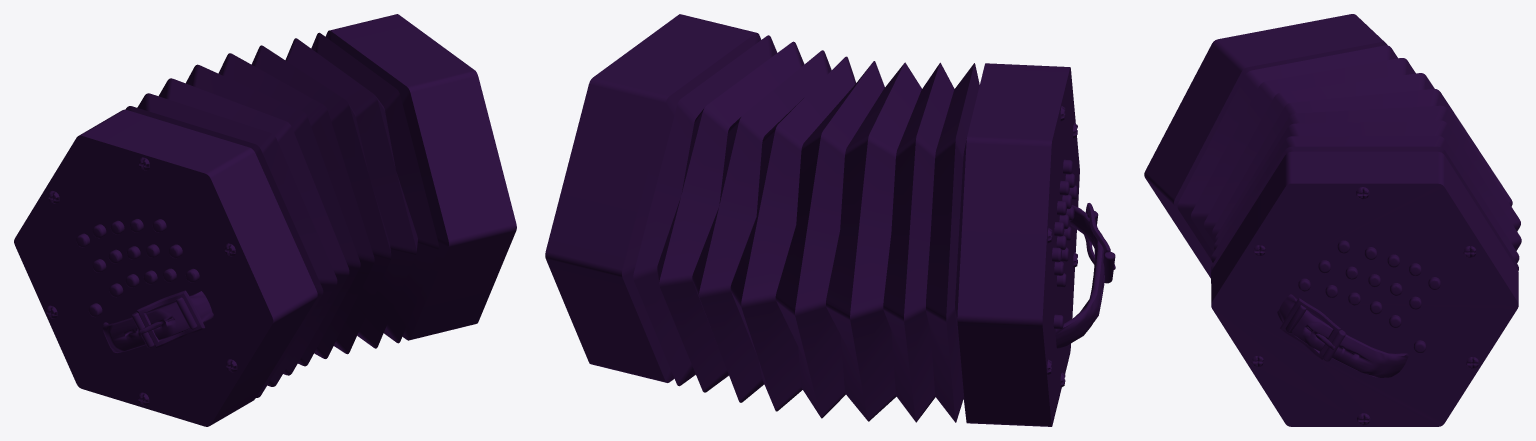
The model's file is cage05.obj.
3 views of the same model, side by side, from view 1: azimuth 30°, elevation 25°; view 2: azimuth 150°, elevation 25°; view 3: azimuth 270°, elevation 25° (orthographic). The views are drawn at different scales.
Visible parts, largest first — view 1: polySurface289, screwHighPoly:polySurface170 screwHighPoly:polySurface314 polySu; view 2: polySurface289; view 3: polySurface289, screwHighPoly:polySurface170 screwHighPoly:polySurface314 polySu.
Part boxes in pixels (left/top/right/bottom): polySurface289: left=14, top=14, right=516, bottom=426; screwHighPoly:polySurface170 screwHighPoly:polySurface314 polySu: left=46, top=157, right=237, bottom=405; polySurface289: left=545, top=14, right=1115, bottom=426; polySurface289: left=1144, top=14, right=1521, bottom=426; screwHighPoly:polySurface170 screwHighPoly:polySurface314 polySu: left=1251, top=187, right=1478, bottom=425.
Bounding box in the file's own units: 12.49 × 6.99 × 9.8.
